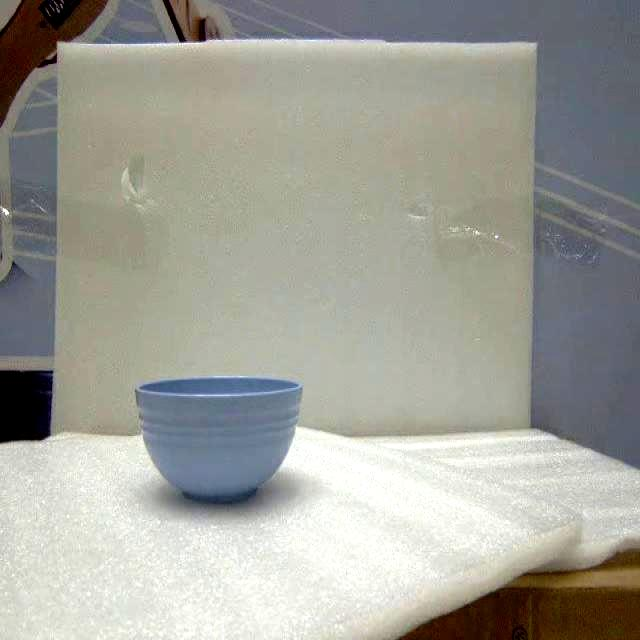Bowl: (136, 377, 301, 501)
